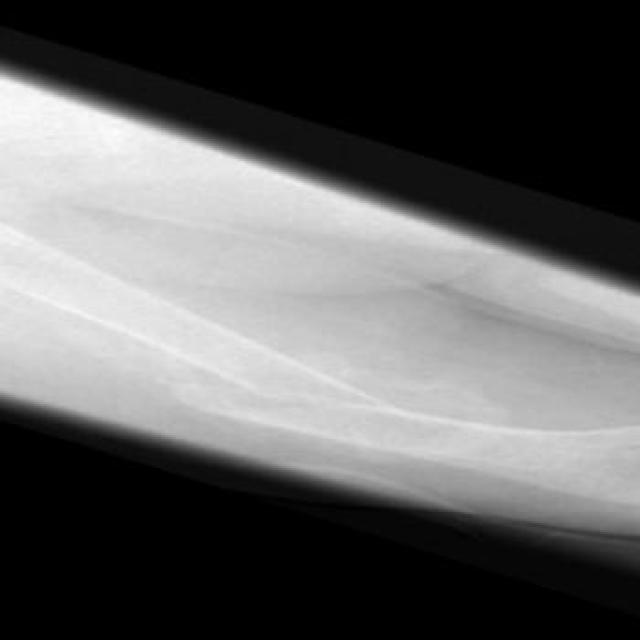Fracture: (170, 373, 424, 432)
